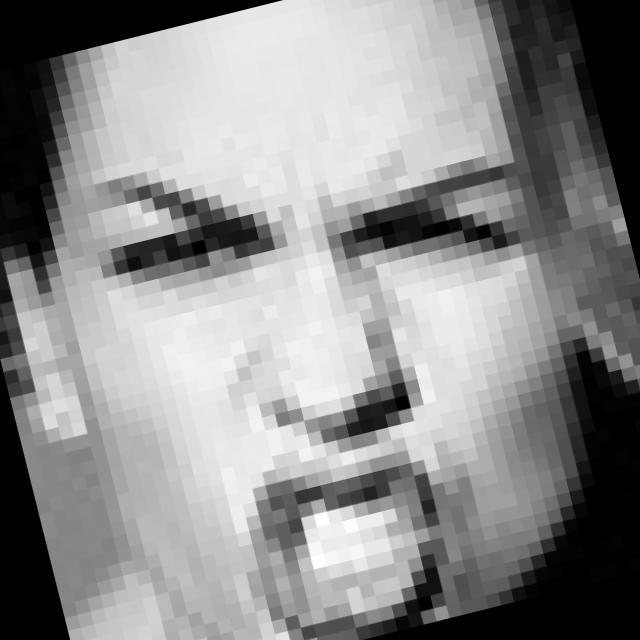angry: (73, 67, 633, 640)
